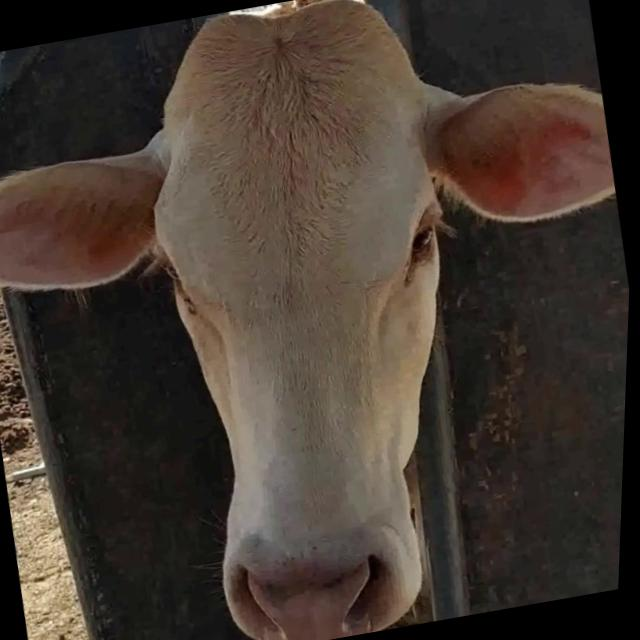cowFace: (105, 0, 520, 640)
